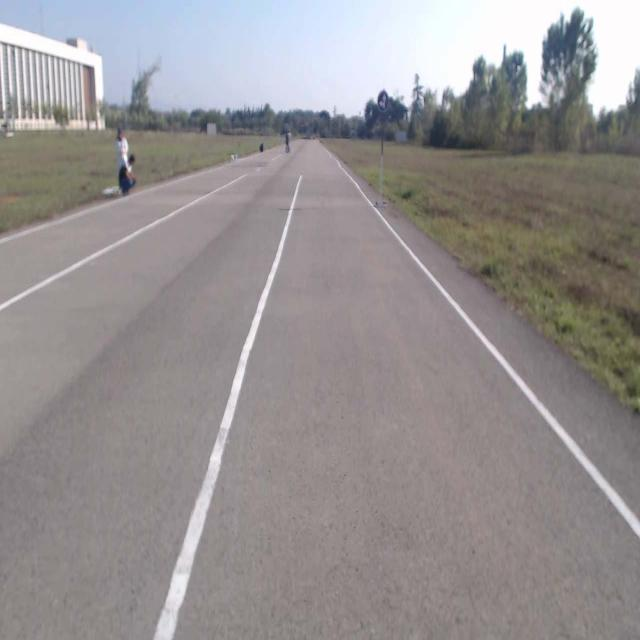ilerisol: (378, 90, 388, 111)
